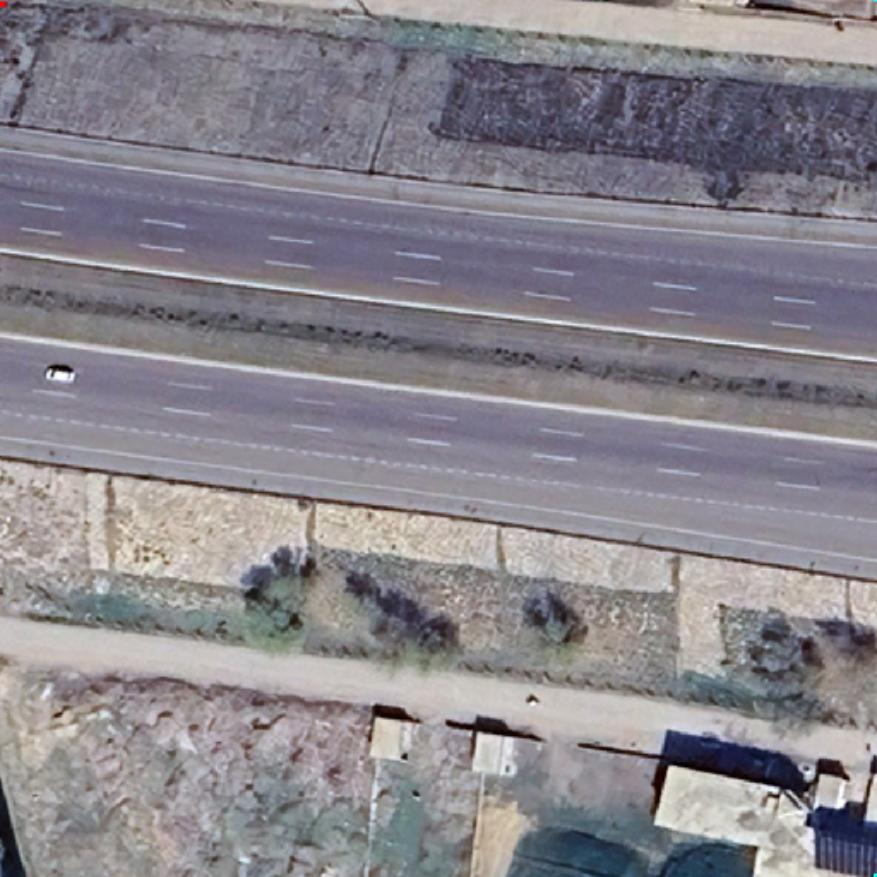Solarpanel: (809, 826, 876, 876)
